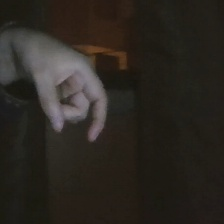Q: (8, 12, 126, 153)
